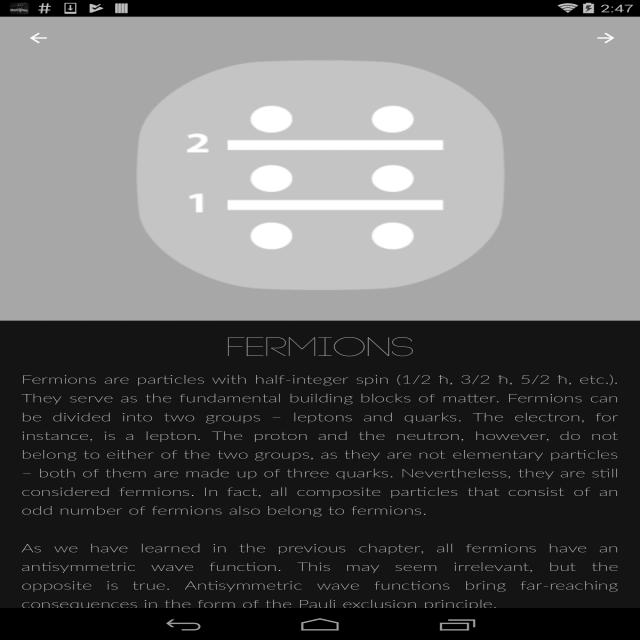ImageButton: (22, 29, 56, 49), (590, 29, 624, 49)
ImageView: (134, 67, 511, 276)
TextView: (12, 372, 626, 519), (17, 543, 626, 612), (216, 334, 424, 363)
